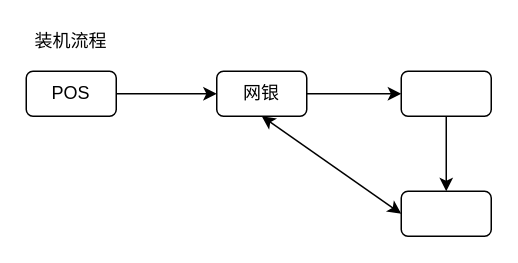
This 518x263 diagram has some shape labels left out. Here are the shapes that lost their labels. From the top down, the centre of each, then its label:
[445,93]: CCSVC
[445,213]: CCSSC
